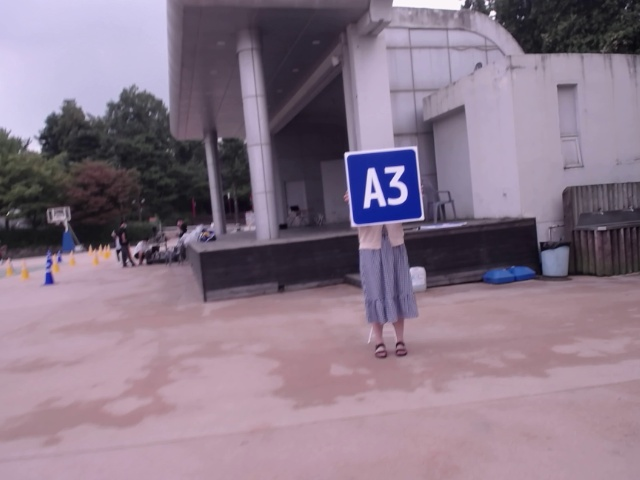delivery_a3: (344, 147, 424, 227)
